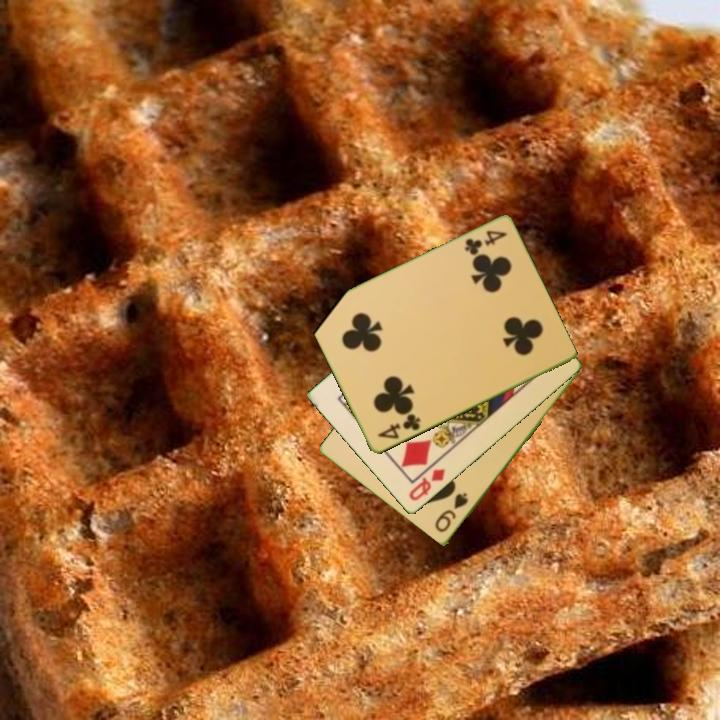4c: (374, 410, 423, 442), (461, 227, 510, 258)
9s: (431, 489, 471, 536)
Qd: (405, 465, 448, 504)
